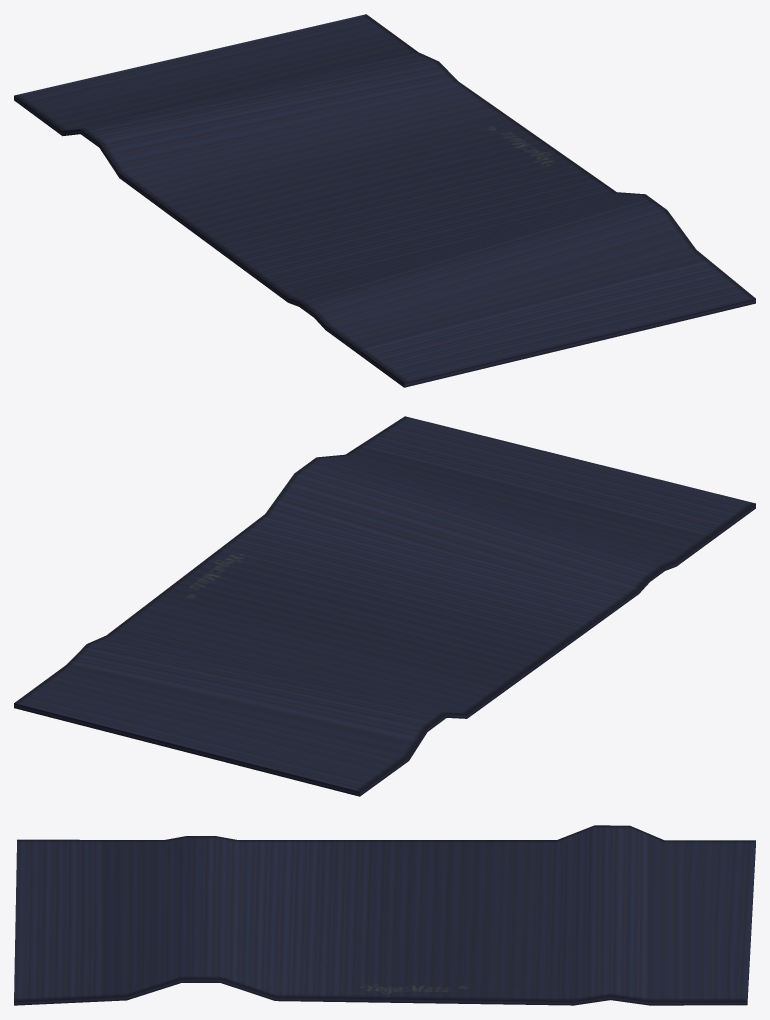
Rendered from yoga_mat_flat_blue_lod0.glb.
3 renders of one model, top to bottom at view 1: azimuth 30°, elevation 25°; view 2: azimuth 150°, elevation 25°; view 3: azimuth 270°, elevation 25°, orthographic. The views are drawn at different scales.
Parts seen in each view (by area): view 1: surf0; view 2: surf0; view 3: surf0.
Boxes of the visible parts, x1,y1,x2,y2 form: surf0: (14,14,755,387); surf0: (14,416,755,796); surf0: (14,825,755,1005).
Size of the model in its own units: 33.89 by 2.67 by 65.9.
